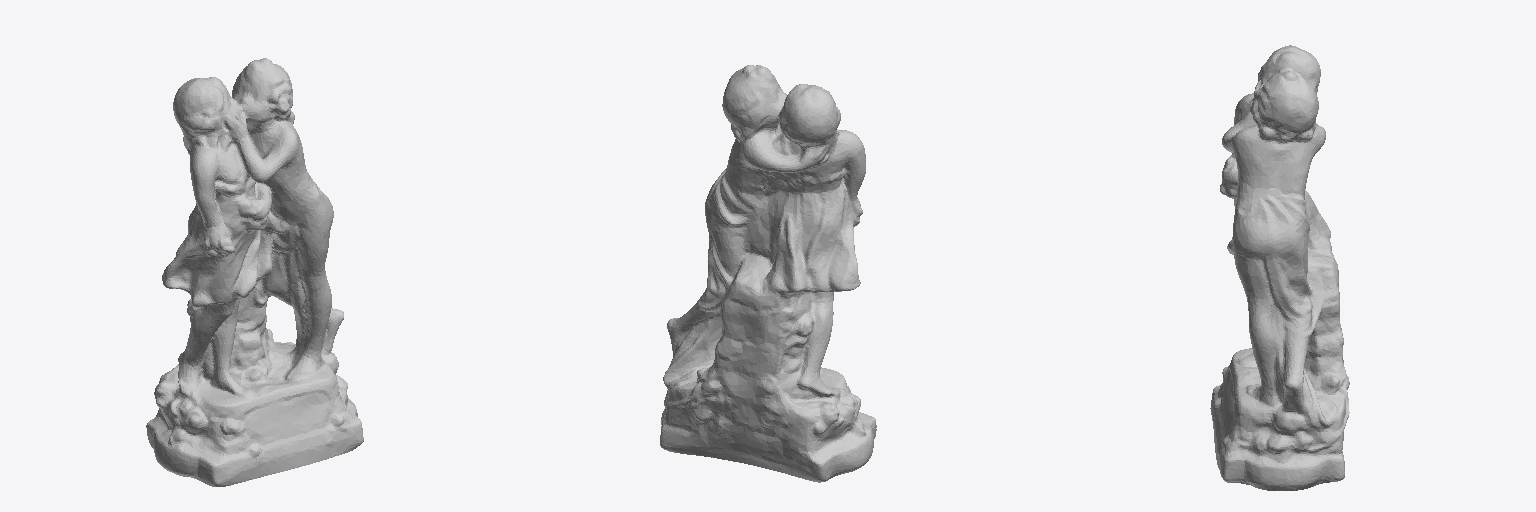
The model's file is polhemus_sculpture.obj.
The picture shows the model from 3 angles: view 1: azimuth 30°, elevation 25°; view 2: azimuth 150°, elevation 25°; view 3: azimuth 270°, elevation 25°; orthographic projection.
Bounding box in the file's own units: 1.06 × 2 × 0.6618.